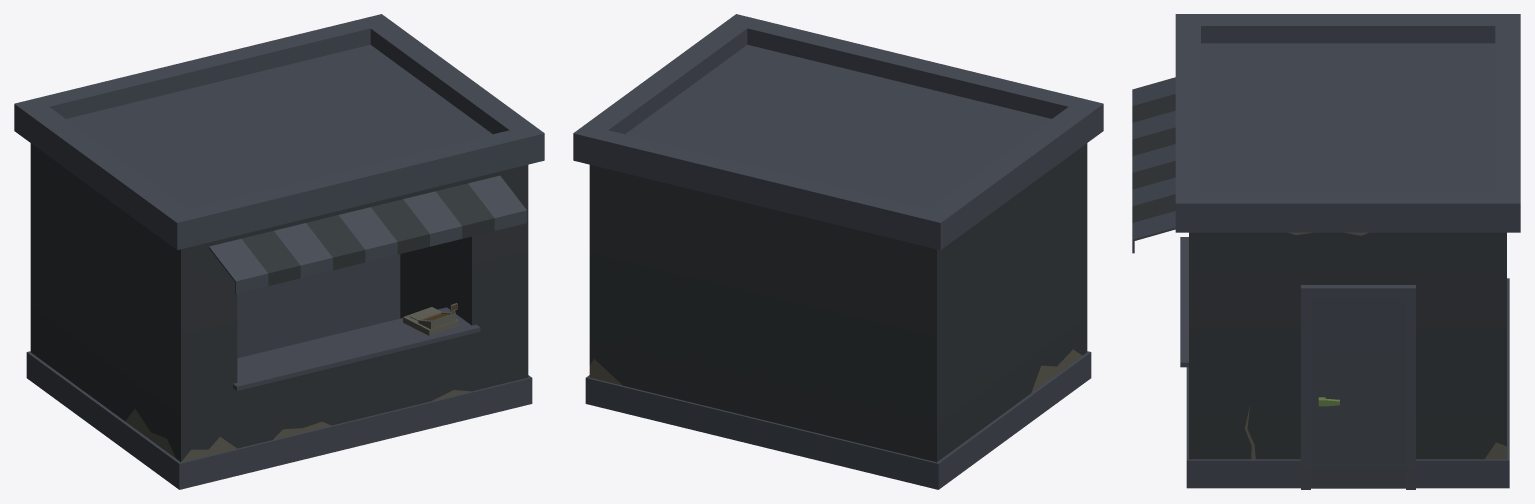
File: OldHouse_13.fbx
3 renders of one model, left to right at view 1: azimuth 30°, elevation 25°; view 2: azimuth 150°, elevation 25°; view 3: azimuth 270°, elevation 25°, orthographic. The views are drawn at different scales.
Parts seen in each view (by area): view 1: OldHouse_13; view 2: OldHouse_13; view 3: OldHouse_13.
Boxes of the visible parts, <box> form: OldHouse_13: <box>14,14,544,489</box>; OldHouse_13: <box>573,14,1103,489</box>; OldHouse_13: <box>1132,14,1520,489</box>.
Size of the model in its own units: 4.24 by 3 by 3.66.
